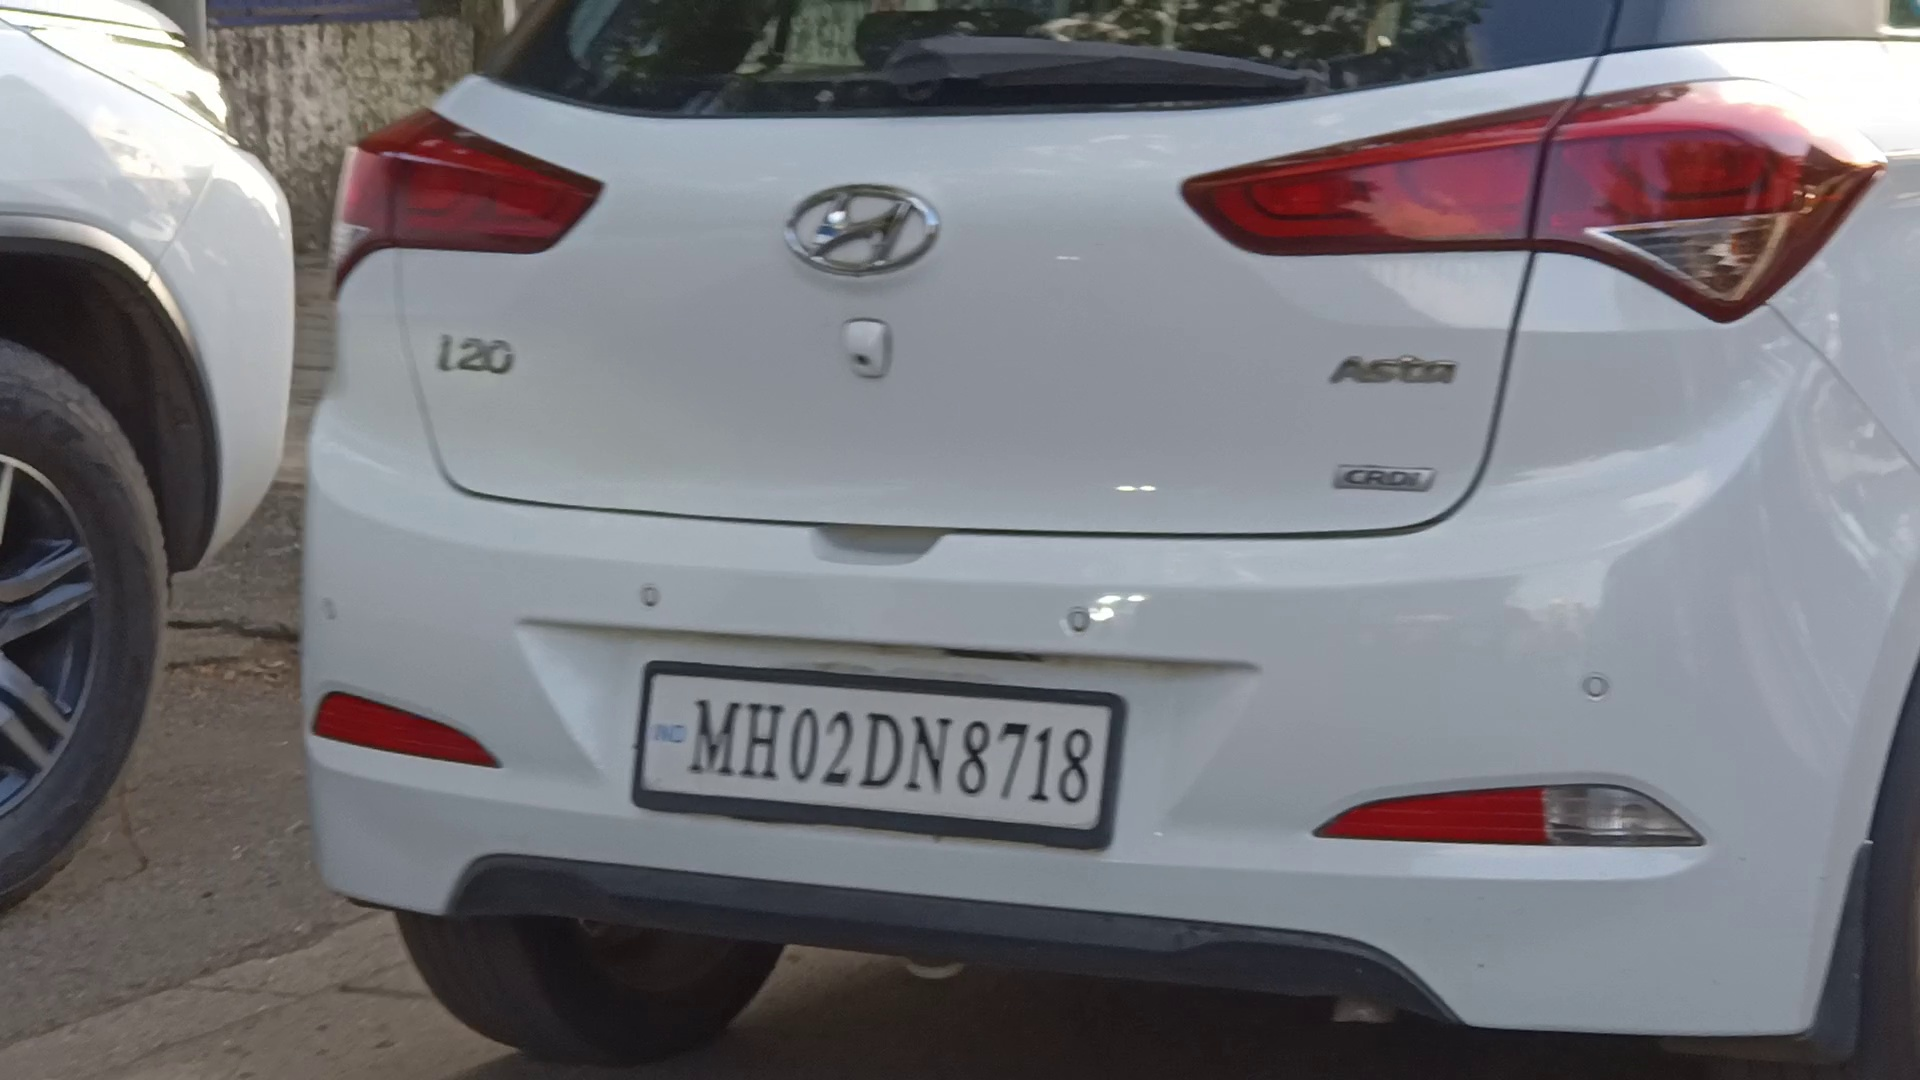MH02DN8718: (642, 668, 1110, 833)
